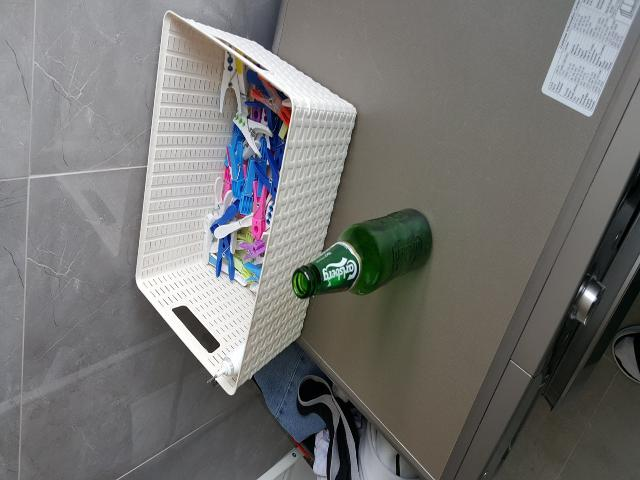beer: (291, 208, 432, 298)
